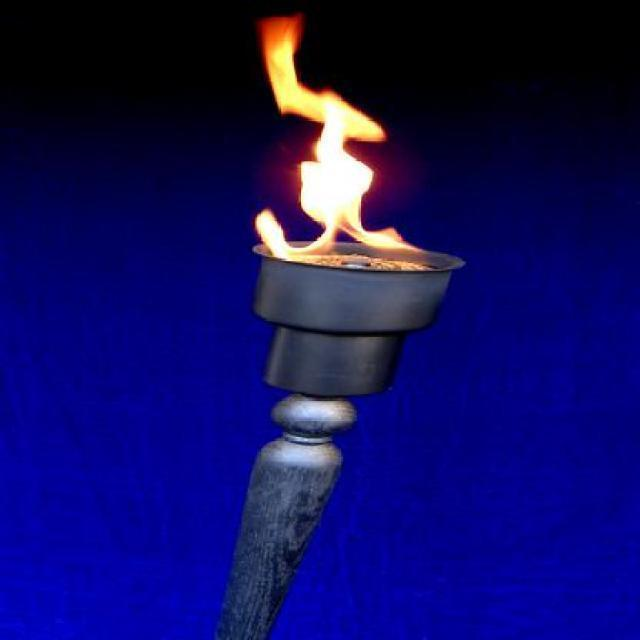Fire: (252, 13, 416, 264)
